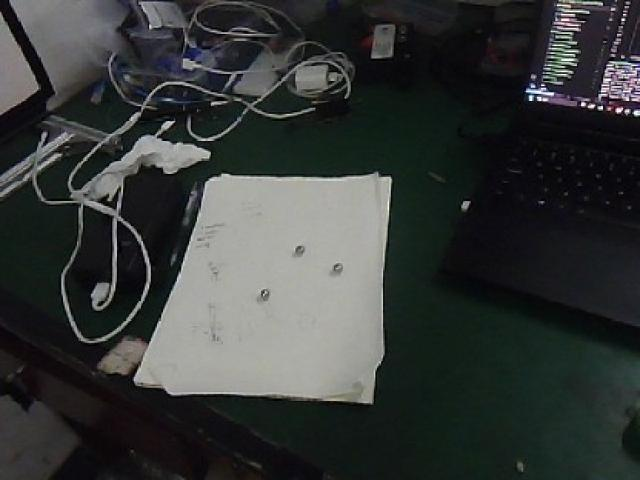steel-ball: (249, 277, 283, 308), (286, 228, 311, 255), (326, 248, 346, 279)
